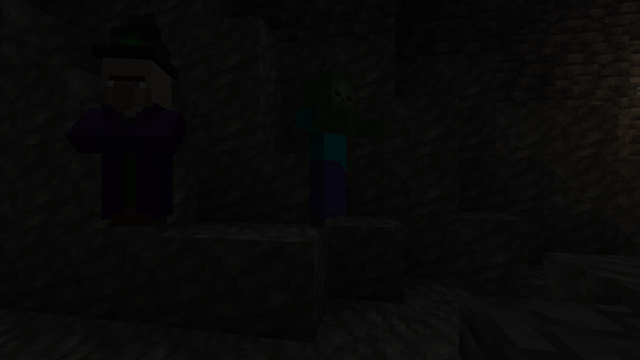sorcieres: (89, 45, 181, 241)
zombies: (301, 72, 350, 229)
